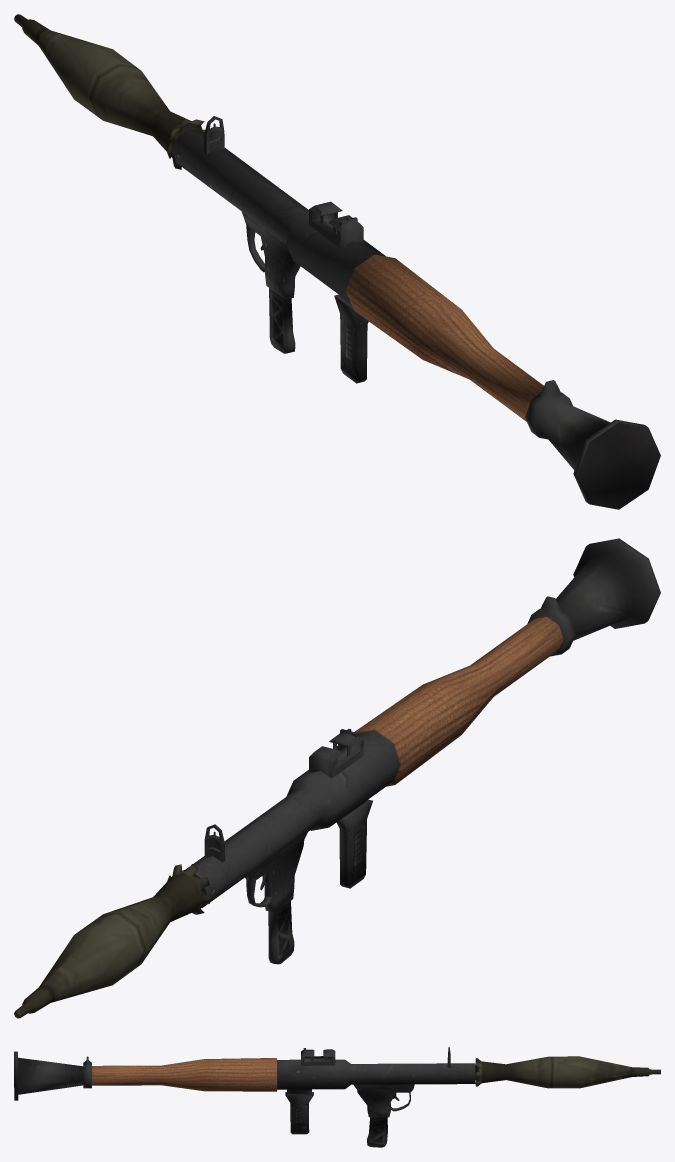
Rendered from striker.glb.
3 renders of one model, top to bottom at view 1: azimuth 30°, elevation 25°; view 2: azimuth 150°, elevation 25°; view 3: azimuth 270°, elevation 25°, orthographic. The views are drawn at different scales.
Parts seen in each view (by area): view 1: Body, Magazine; view 2: Body, Magazine; view 3: Body, Magazine.
Boxes of the visible parts, x1,y1,x2,y2 form: Body: (172, 116, 660, 509); Magazine: (14, 14, 205, 169); Body: (186, 538, 660, 964); Magazine: (14, 864, 212, 1018); Body: (14, 1047, 475, 1147); Magazine: (475, 1056, 660, 1088).
Size of the model in its own units: 0.1048 by 0.22 by 1.3.
1 material, 1 textured.
